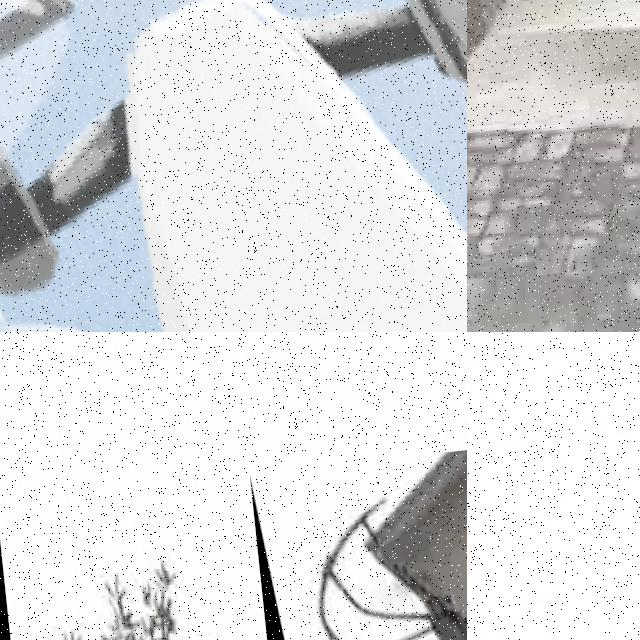0: (249, 438, 467, 640)
drone: (0, 0, 467, 332)
